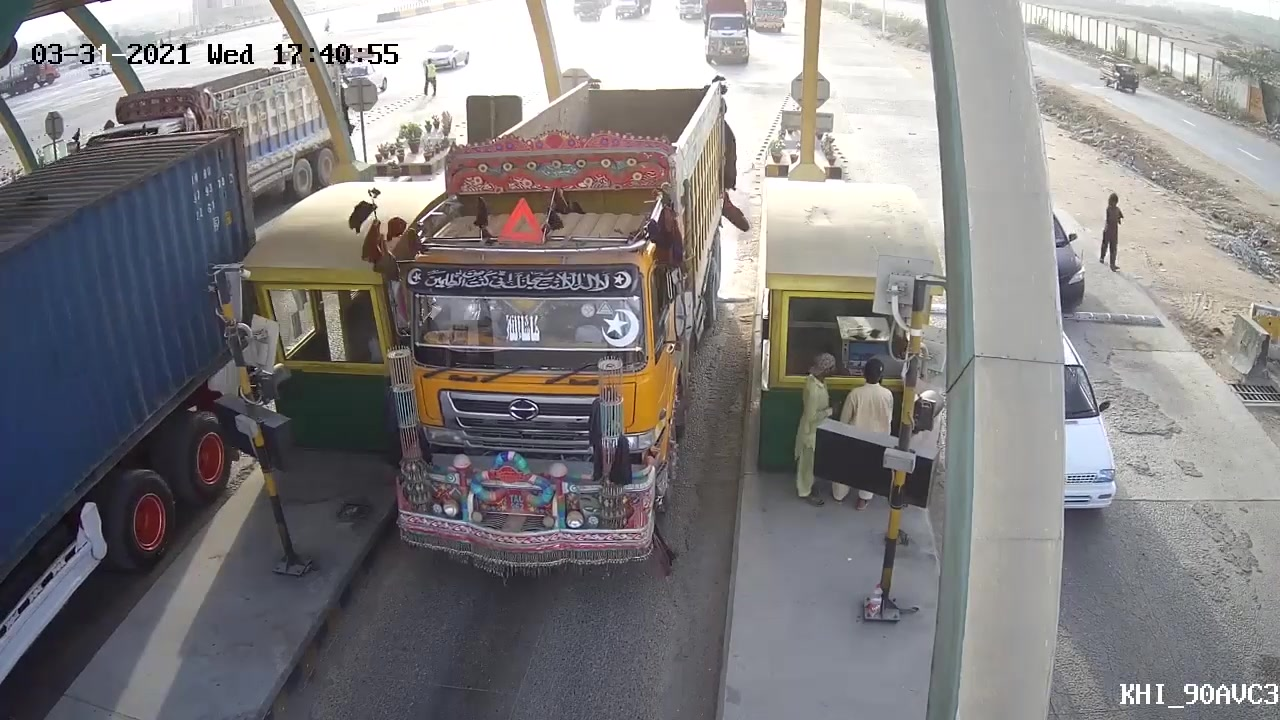F5: (381, 63, 743, 585)
